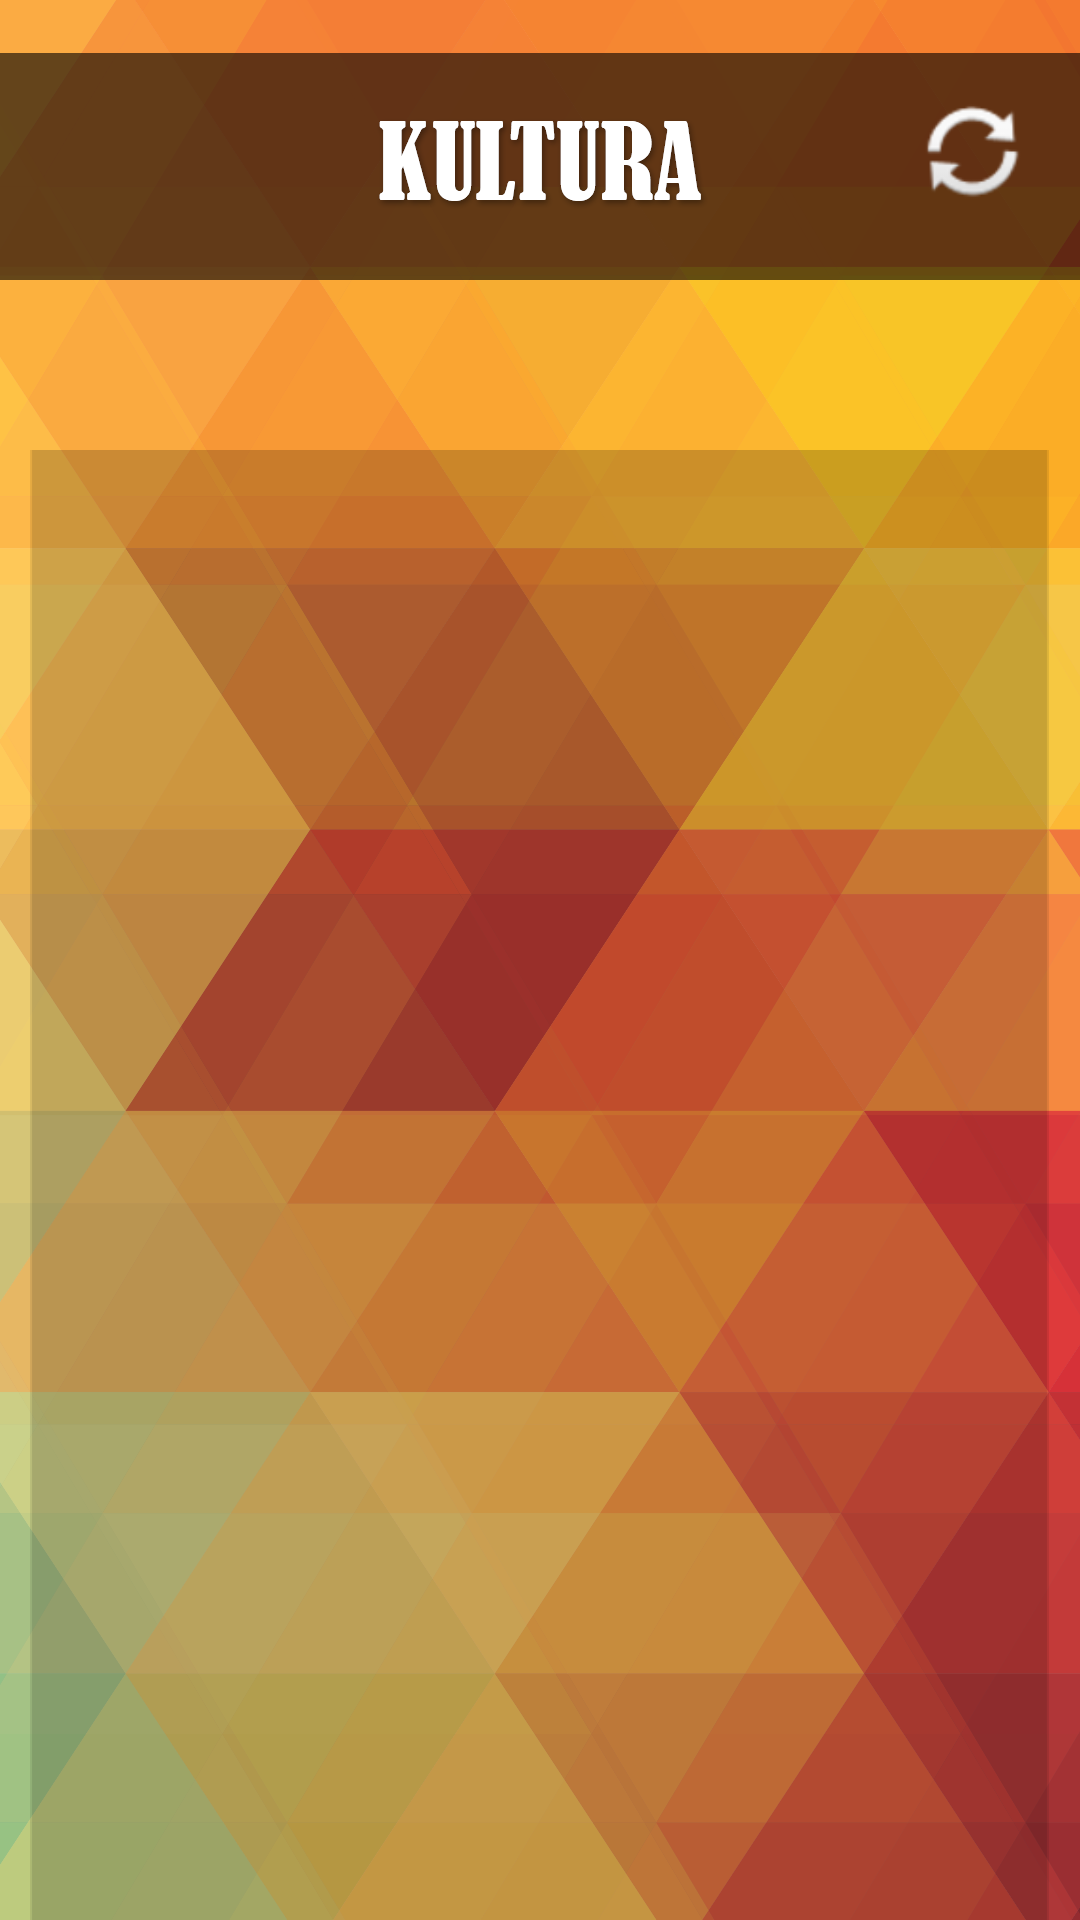

Named icons in this screenshot (1080x1920) and their bounding boxes, (x1, y1, x2, y2):
popup sync: (927, 106, 1019, 197)
